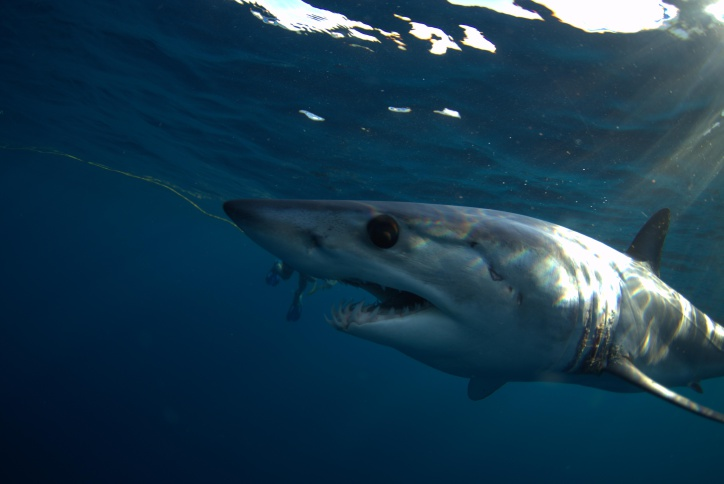Mako: (195, 171, 724, 428)
